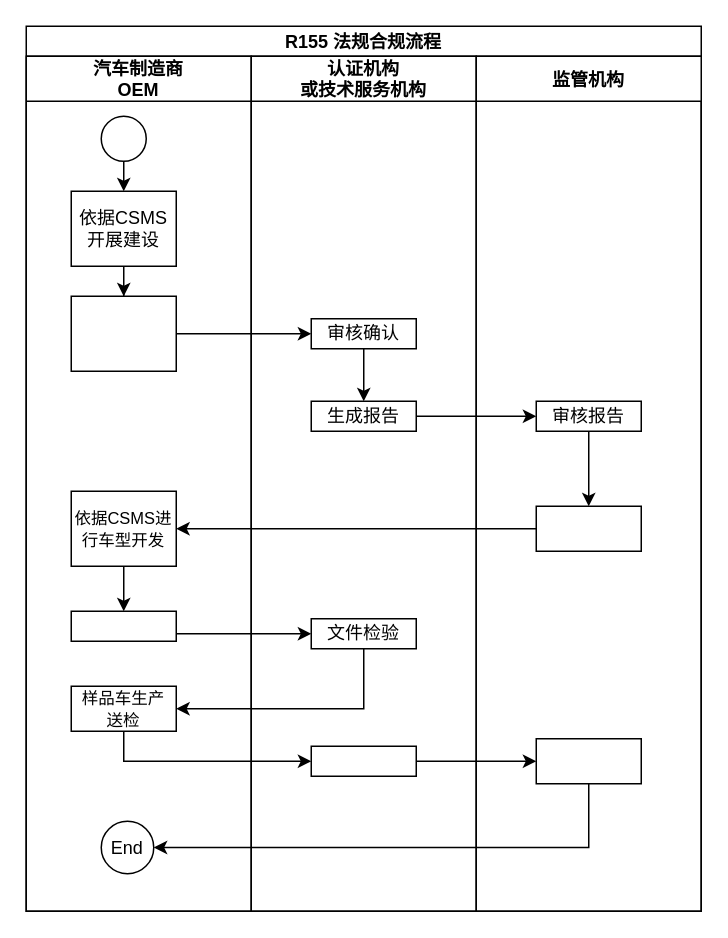
This 728x938 diagram has some shape labels left out. The centre of each missing label's shape, as x and y in pixels:
start: the point at 123,138
形成CSMS描述文件 及合规声明: the point at 123,333
形成技术文件: the point at 123,625
技术检验: the point at 363,760
颁布CSMS证书: the point at 588,528
颁布VTA 证书: the point at 588,760
